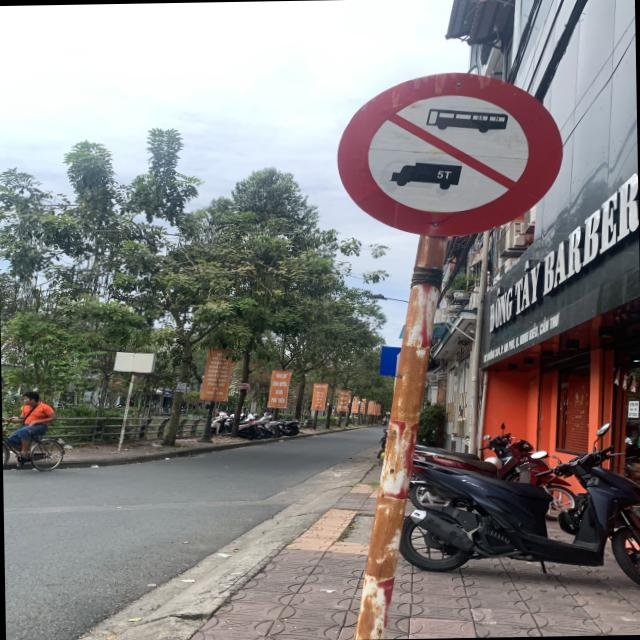Cam_XeTai_XeKhach: (336, 70, 568, 240)
